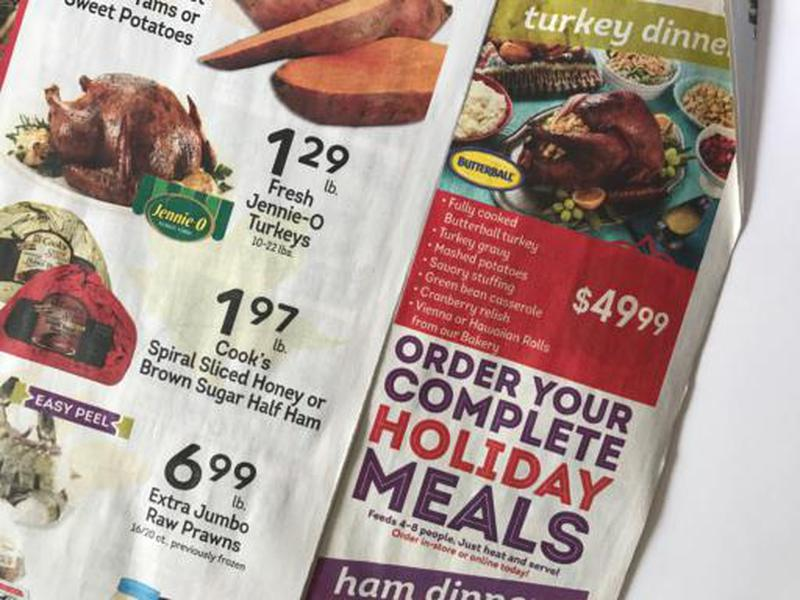paper: (1, 1, 763, 600)
